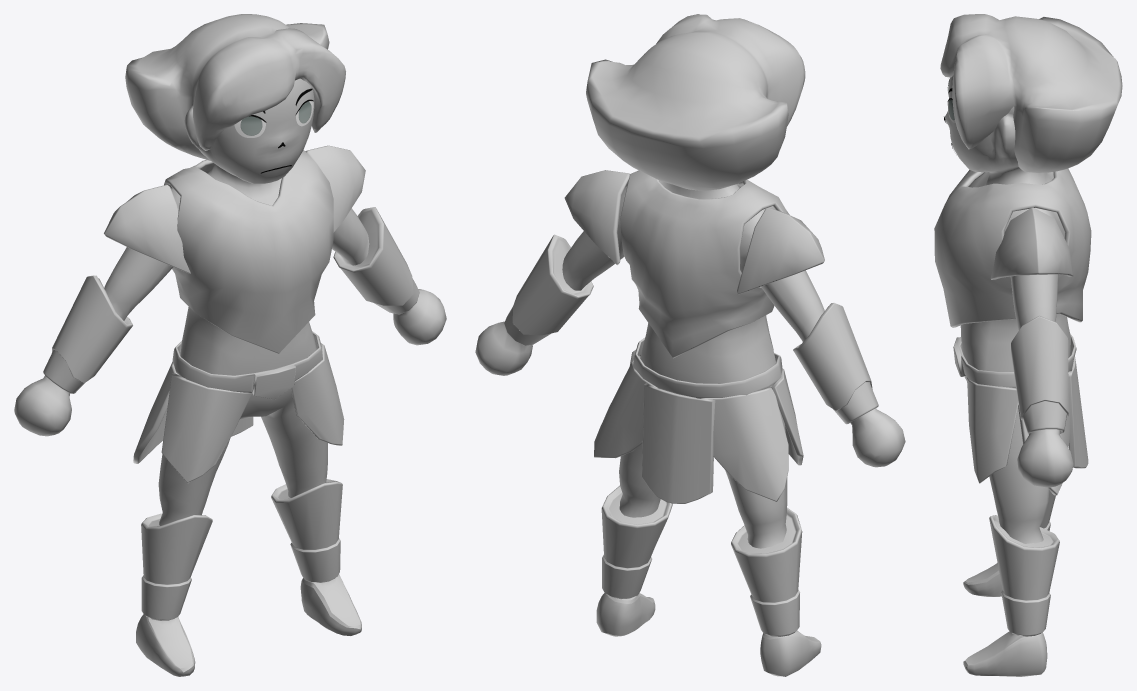
File: PlayerModel.fbx
3 renders of one model, left to right at view 1: azimuth 30°, elevation 25°; view 2: azimuth 150°, elevation 25°; view 3: azimuth 270°, elevation 25°, orthographic.
Parts seen in each view (by area): view 1: Anatomy_LOW, Breastplate, Hair_LOW, Grieves, Bracers, Tassets_Front, Spaulders, Belt, Tassets_Back, FaceMesh; view 2: Hair_LOW, Anatomy_LOW, Breastplate, Bracers, Grieves, Tassets_Back, Spaulders, Tasset_Middle_Back, Belt, Tassets_Front; view 3: Hair_LOW, Anatomy_LOW, Breastplate, Bracers, Grieves, Spaulders, Tassets_Front, Tasset_Middle_Back, Belt, Tassets_Back.
Part boxes in pixels (bbox=[...]): Anatomy_LOW: bbox=[14, 78, 446, 676]; Breastplate: bbox=[164, 150, 333, 353]; Hair_LOW: bbox=[125, 14, 345, 160]; Grieves: bbox=[141, 479, 342, 620]; Bracers: bbox=[43, 207, 419, 393]; Tassets_Front: bbox=[161, 343, 344, 482]; Spaulders: bbox=[104, 145, 365, 273]; Belt: bbox=[172, 331, 322, 399]; Tassets_Back: bbox=[133, 361, 179, 463]; FaceMesh: bbox=[234, 88, 313, 173]; Hair_LOW: bbox=[586, 14, 805, 190]; Anatomy_LOW: bbox=[475, 180, 905, 676]; Breastplate: bbox=[620, 170, 789, 358]; Bracers: bbox=[504, 234, 878, 424]; Grieves: bbox=[601, 485, 802, 636]; Tassets_Back: bbox=[594, 354, 788, 501]; Spaulders: bbox=[564, 170, 824, 294]; Tasset_Middle_Back: bbox=[642, 383, 715, 503]; Belt: bbox=[633, 338, 782, 397]; Tassets_Front: bbox=[630, 349, 803, 465]; Hair_LOW: bbox=[940, 14, 1122, 172]; Anatomy_LOW: bbox=[945, 75, 1073, 676]; Breastplate: bbox=[934, 168, 1091, 327]; Bracers: bbox=[1011, 316, 1068, 434]; Grieves: bbox=[989, 490, 1059, 636]; Spaulders: bbox=[990, 207, 1073, 279]; Tassets_Front: bbox=[966, 376, 1018, 483]; Tasset_Middle_Back: bbox=[1068, 356, 1088, 468]; Belt: bbox=[953, 333, 1076, 387]; Tassets_Back: bbox=[1018, 369, 1072, 495].
Bounding box in the file's own units: 97.84 × 136 × 38.04.
